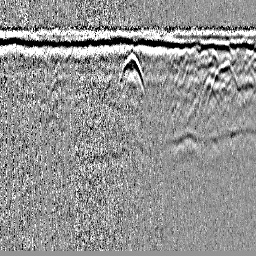cavity: (118, 51, 146, 97)
